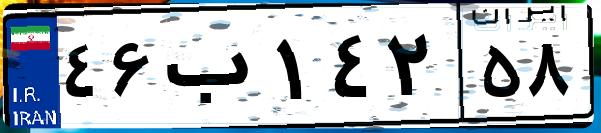1: (270, 28, 330, 110)
2: (385, 28, 445, 110)
4: (330, 28, 385, 110), (57, 26, 110, 100)
5: (475, 38, 525, 113)
6: (110, 28, 158, 98)
8: (525, 38, 570, 115)
ب: (158, 20, 270, 120)
